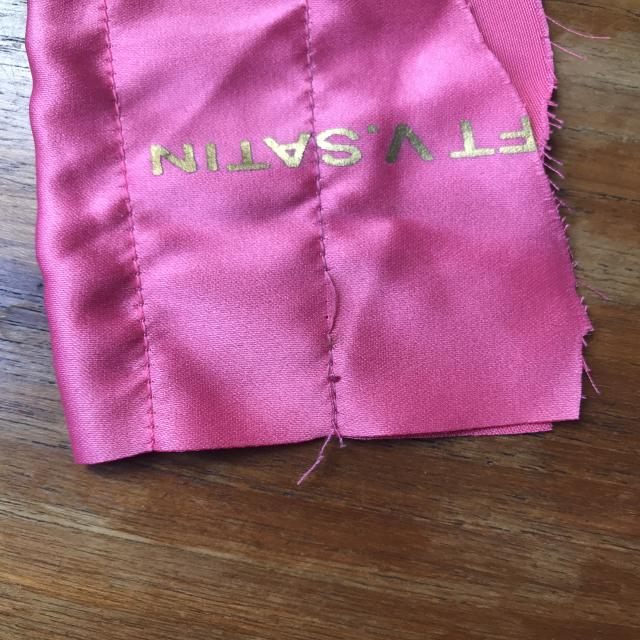skip: (305, 259, 354, 355)
